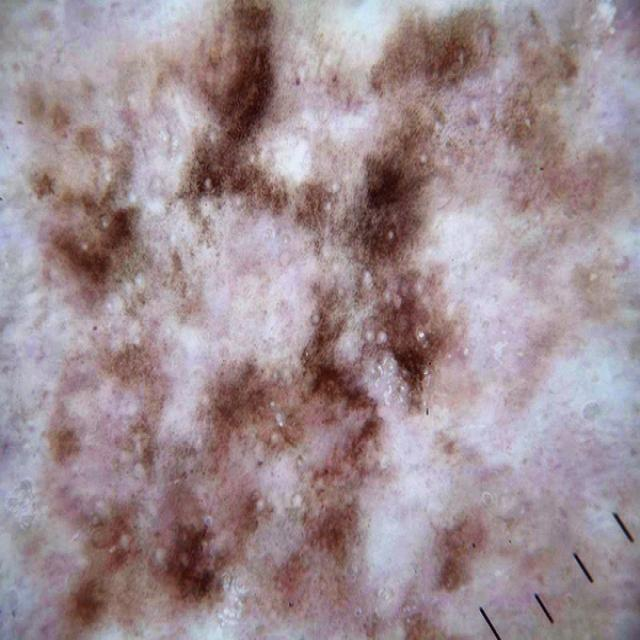Benign-Keratosis-like-Lesions-BKL-: (28, 27, 603, 608)
